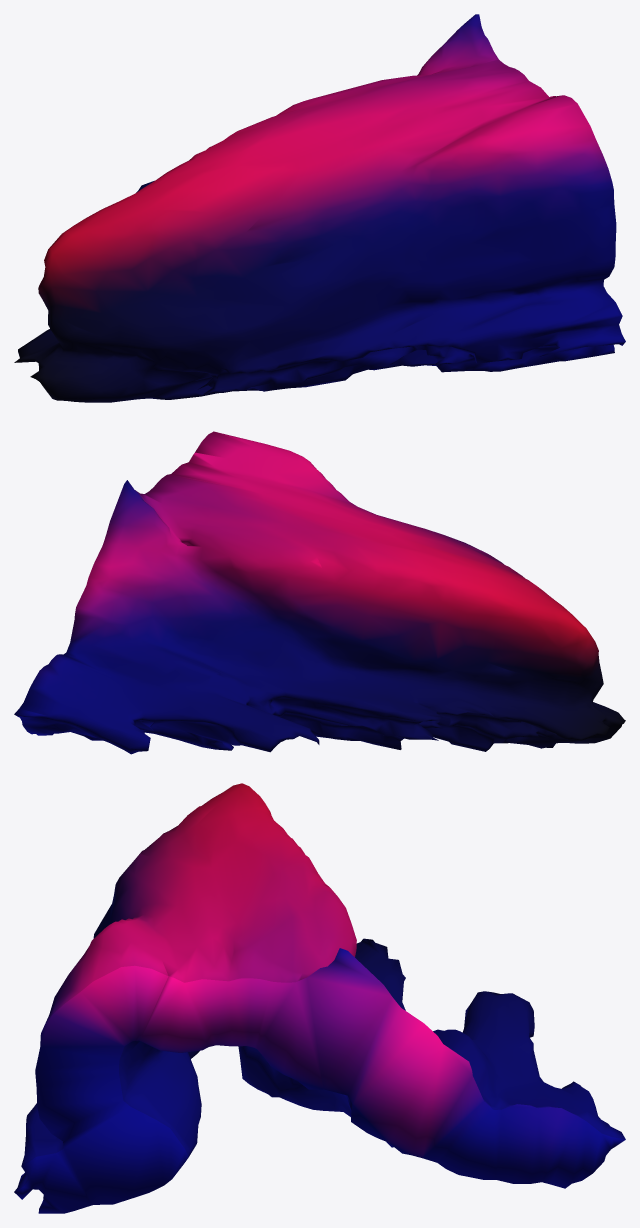
File: copper_vein-u2-cold-lod0.gltf
The picture shows the model from 3 angles, top to bottom: view 1: azimuth 30°, elevation 25°; view 2: azimuth 150°, elevation 25°; view 3: azimuth 270°, elevation 25°; orthographic projection. The views are drawn at different scales.
Visible parts, largest first — view 1: copper_vein-u2-cold-lod0; view 2: copper_vein-u2-cold-lod0; view 3: copper_vein-u2-cold-lod0.
Boxes of the visible parts, x1,y1,x2,y2 form: copper_vein-u2-cold-lod0: (14, 14, 625, 402); copper_vein-u2-cold-lod0: (14, 431, 625, 754); copper_vein-u2-cold-lod0: (14, 783, 625, 1213).
Bounding box in the file's own units: 0.6303 × 0.2843 × 0.5934.
